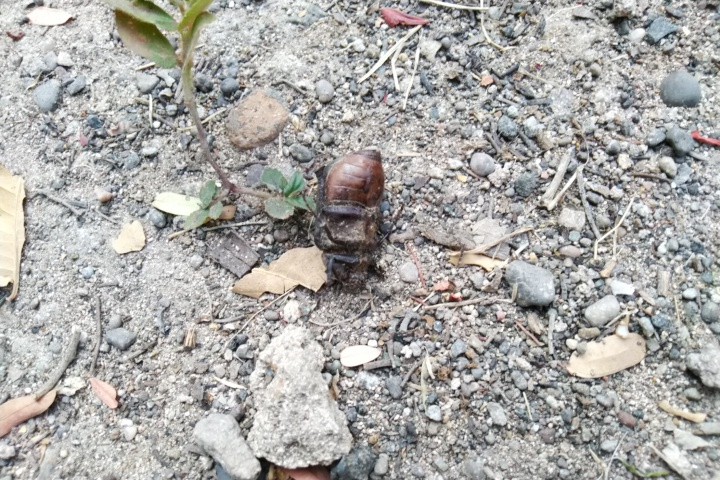INS-A: (291, 148, 410, 297)
